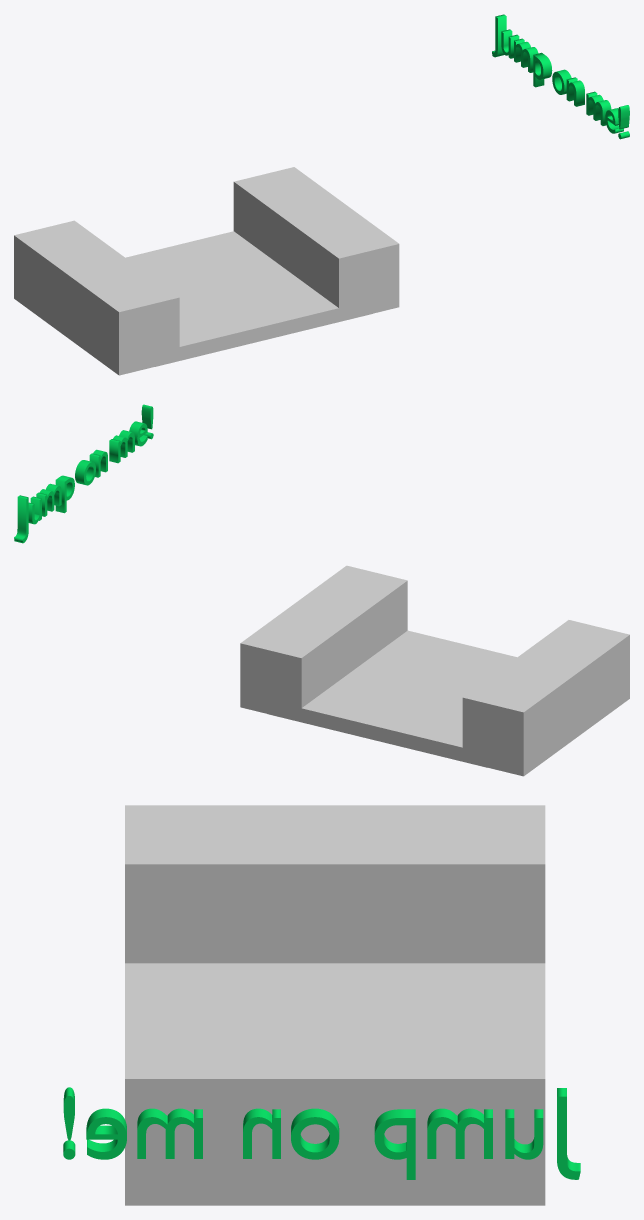
The model's file is level1-G_P224o7.glb.
The picture shows the model from 3 angles, top to bottom: view 1: azimuth 30°, elevation 25°; view 2: azimuth 150°, elevation 25°; view 3: azimuth 270°, elevation 25°; orthographic projection. The views are drawn at different scales.
Visible parts, largest first — view 1: Cube.003, Cube, Cube.002, Text_X; view 2: Cube.003, Cube, Cube.002, Text_X; view 3: Cube.002, Cube.003, Cube, Text_X.
Boxes of the visible parts, x1,y1,x2,y2 form: Cube.003: [14, 220, 179, 375]; Cube: [125, 231, 372, 366]; Cube.002: [233, 167, 399, 320]; Text_X: [492, 14, 629, 139]; Cube.003: [462, 620, 629, 776]; Cube: [267, 630, 516, 767]; Cube.002: [240, 565, 407, 721]; Text_X: [14, 404, 153, 543]; Cube.002: [125, 1020, 545, 1205]; Cube.003: [125, 805, 545, 963]; Cube: [125, 963, 545, 1019]; Text_X: [63, 1087, 580, 1179].
Bounding box in the file's own units: 45.43 × 14.03 × 20.55.
